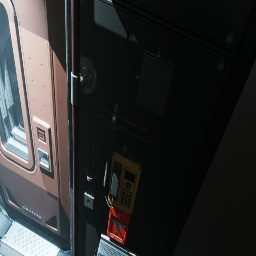EmergencyPhone ,: (104, 136, 142, 215)
FireAlarm ,: (107, 204, 131, 245)
